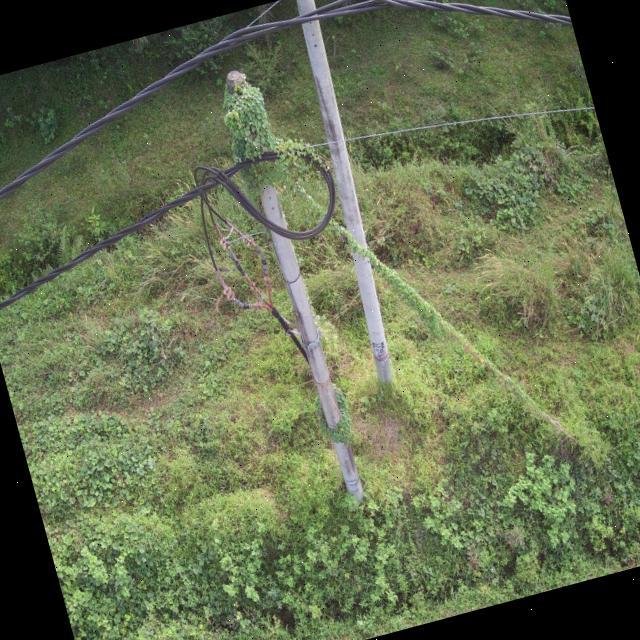critical vegetation: (196, 2, 598, 514)
